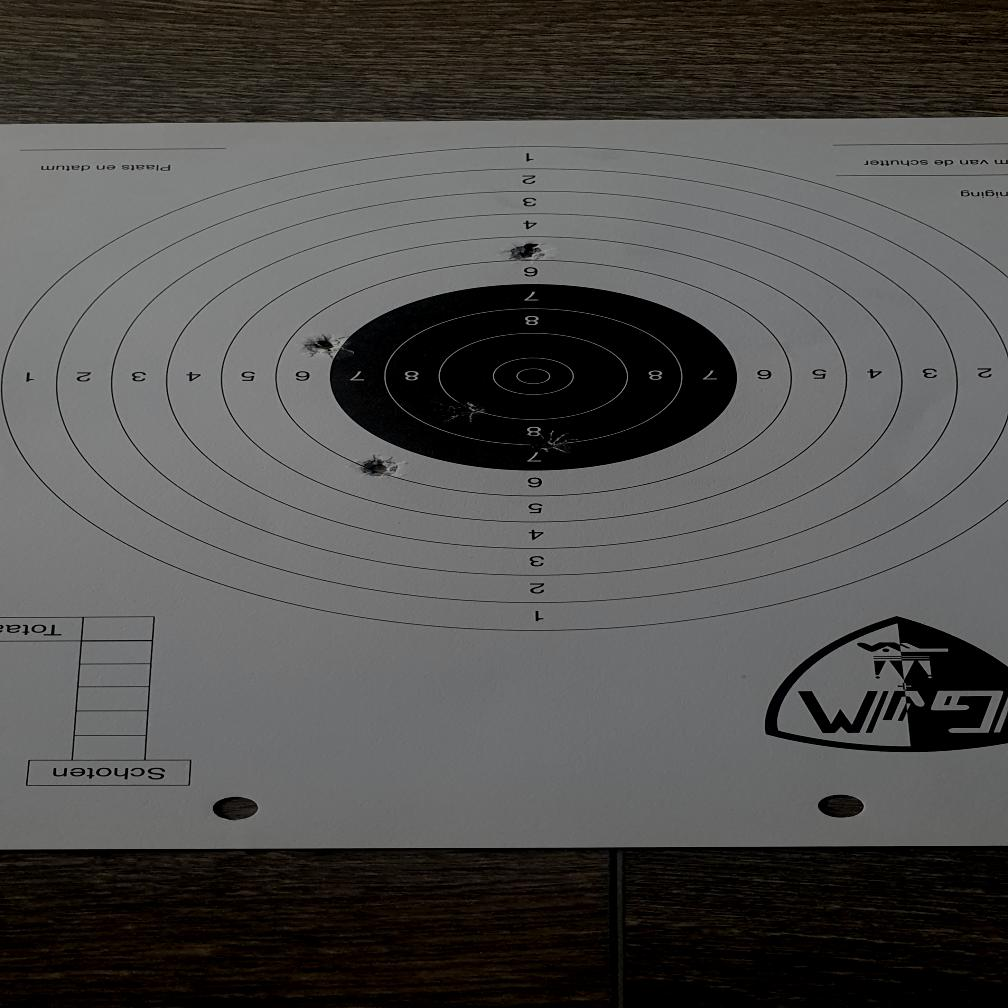6: (352, 453, 410, 480), (503, 242, 553, 264)
7: (296, 334, 359, 358)
8: (526, 430, 581, 454)
9: (433, 399, 486, 423)
Target: (0, 144, 1008, 634)
black_contour: (330, 282, 734, 472)
